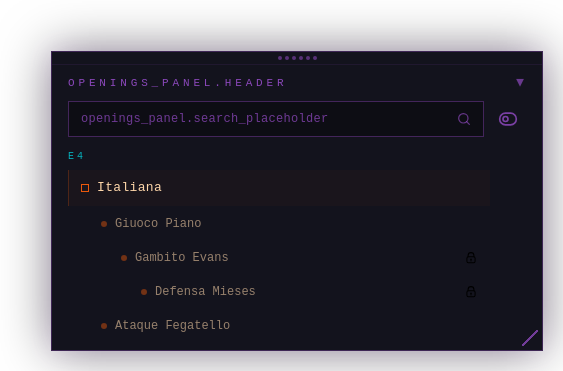
Test case: OpeningsPanel › shows a matching variant with its parent opening and hides sibling variants
Type "evans" into the search field named "openings_panel.search_label" at (276, 119), box [68,101,484,137]
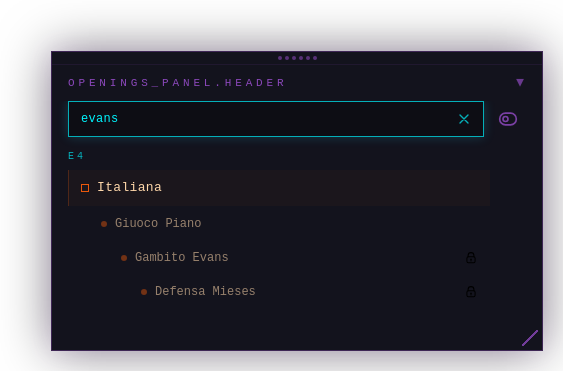
Expected: the text "Italiana" is shown, [97,180,162,195]
Expected: the button "Ataque Fegatello" is gone
